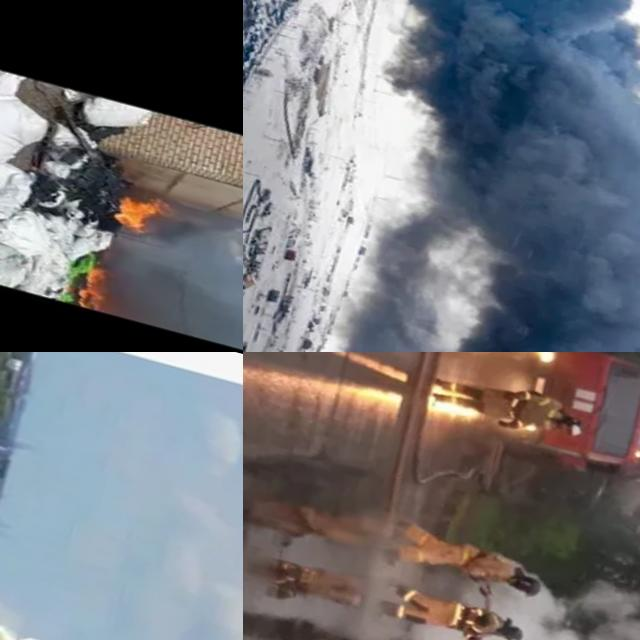smoke: (243, 0, 640, 352), (313, 539, 640, 640), (92, 188, 243, 352)
